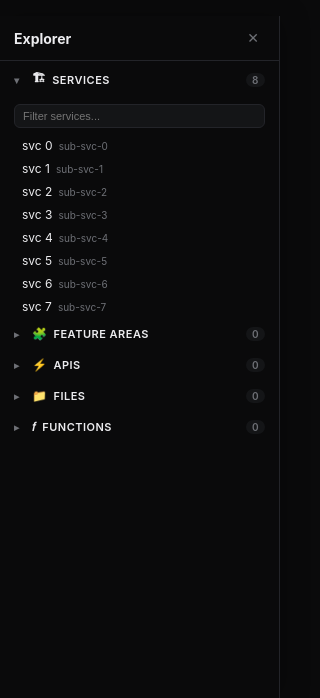
Test: ExplorerSidebar › filter narrows displayed items
In the field with placeholder "Filter services...": point(140, 116) x1=14 y1=104 x2=265 y2=128, type "svc 3"
Wait 150 ms
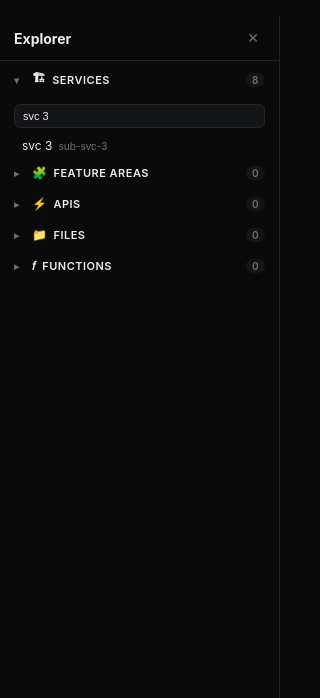
Expected: the text "svc 3" is shown, x1=22 y1=138 x2=52 y2=153
Expected: the option "svc 0" is gone
Expected: the option "svc 7" is gone
